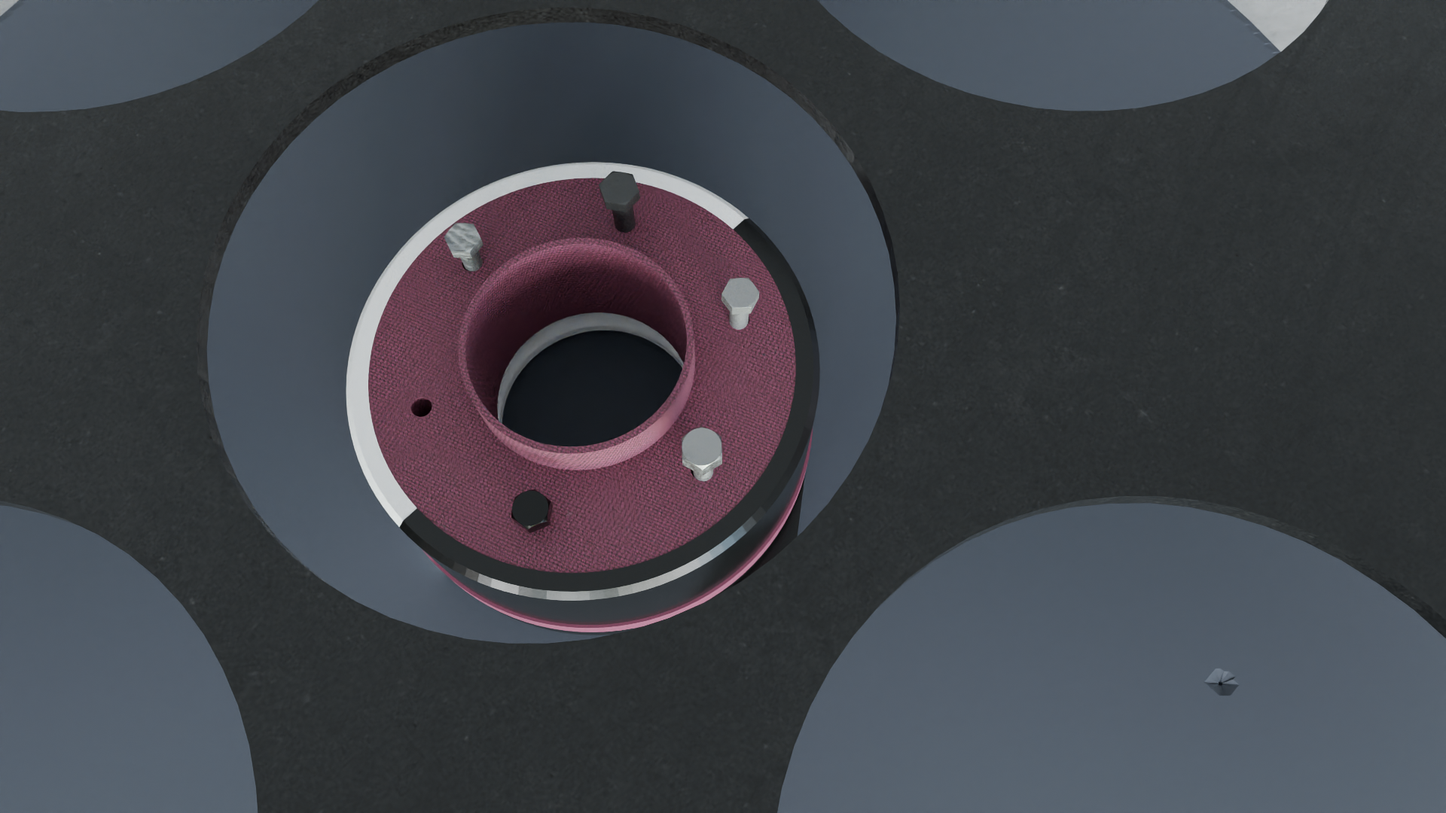bolt: (682, 427, 722, 470), (511, 489, 551, 530), (599, 171, 639, 206), (721, 278, 759, 309), (444, 223, 480, 252)
